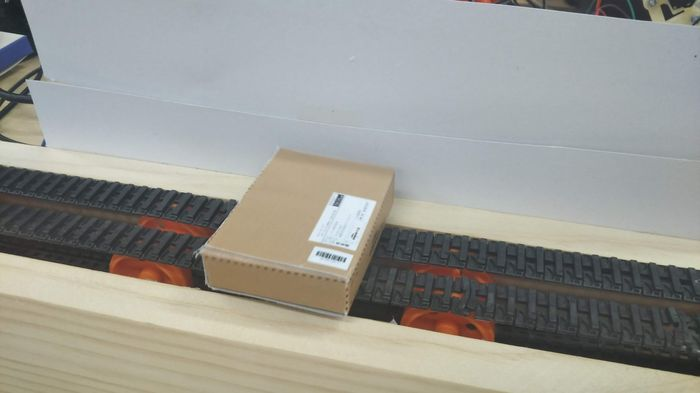box2: (195, 144, 400, 322)
